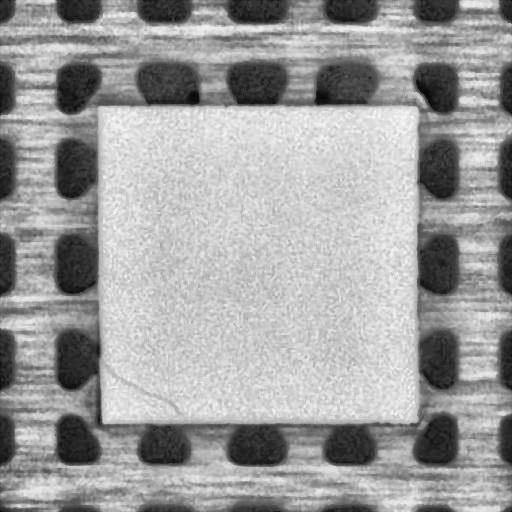DIE_CRACK: (99, 361, 183, 417)
